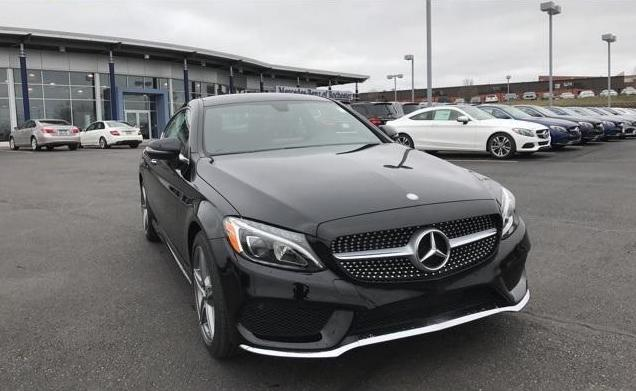C300Coupe: (128, 84, 540, 366)
